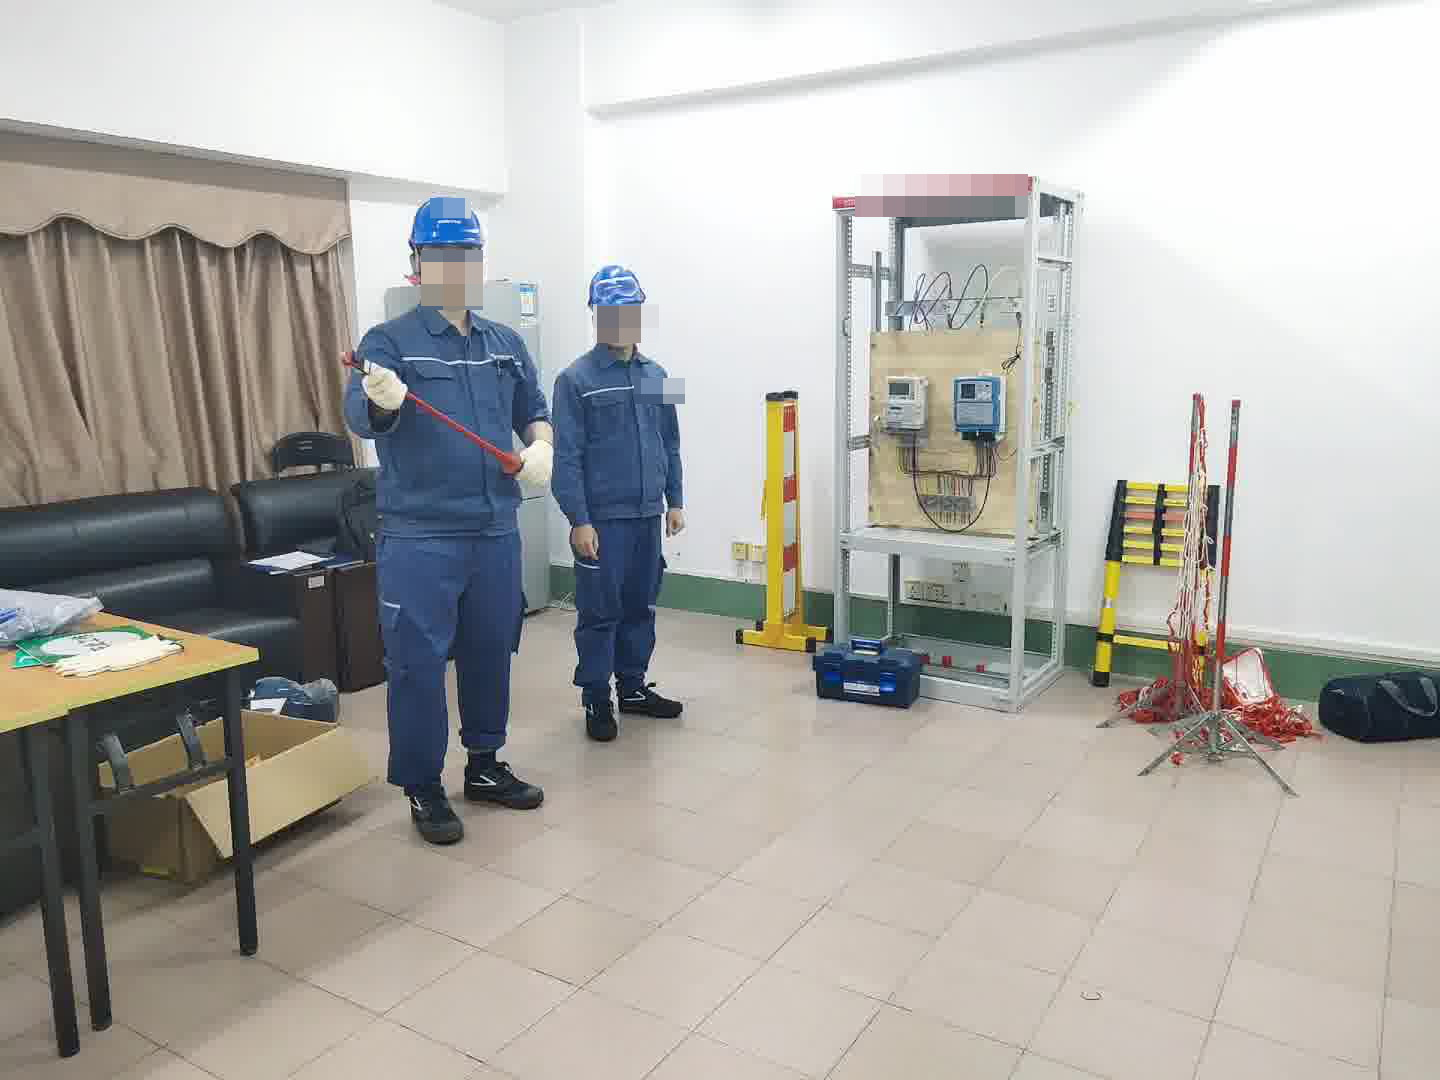downsuit: (377, 539, 530, 794), (572, 530, 667, 700)
halt: (405, 194, 491, 309), (586, 262, 652, 351)
hand: (660, 507, 692, 539), (572, 521, 597, 558)
person: (338, 194, 549, 834), (553, 259, 691, 732)
testrod: (335, 343, 526, 477)
upsuit: (345, 296, 547, 529), (559, 344, 685, 521)
wglove: (356, 362, 411, 413), (510, 431, 552, 488)
